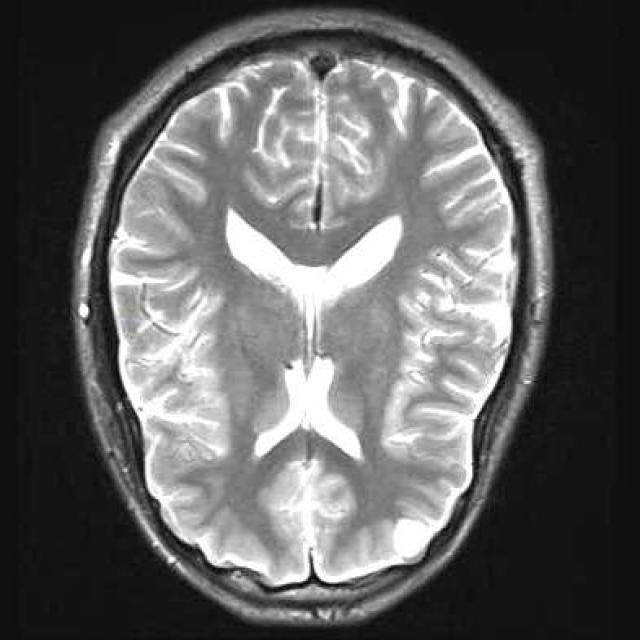notumor: (73, 8, 552, 626)
